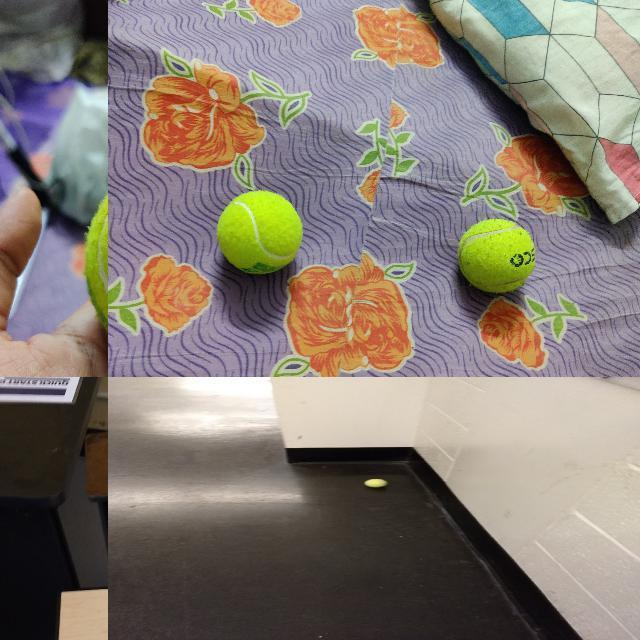tennis-ball: (216, 190, 302, 275), (457, 219, 536, 294), (363, 479, 389, 488)
